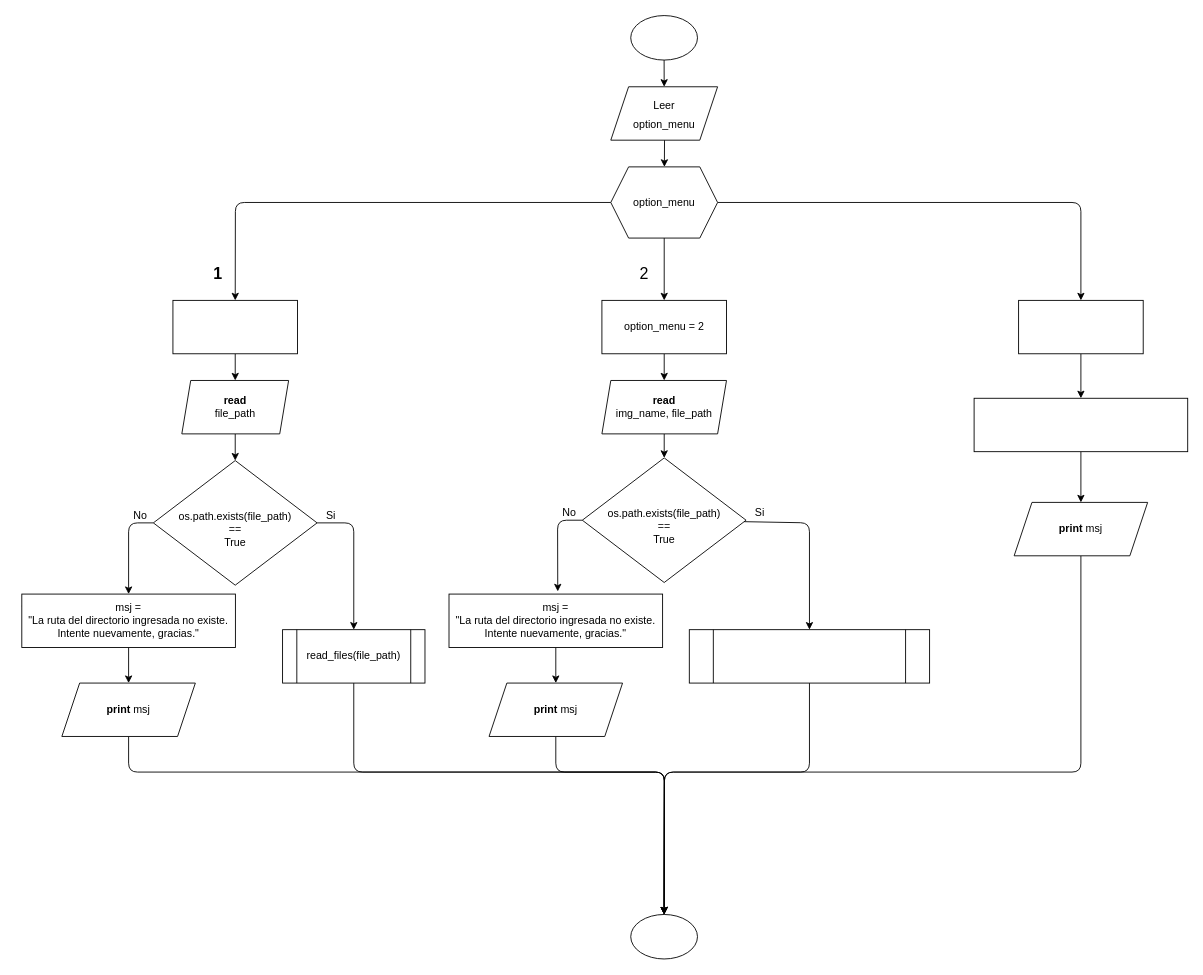
The diagram is 1203 pixels wide and 975 high, and some of its shapes have lost their labels. Here are the shapes that lost their labels. From the top down, the box of each, then its label:
(630, 15, 697, 60): Start
(172, 299, 298, 354): option_menu = 1
(1018, 299, 1143, 354): option_menu = 0
(973, 397, 1188, 452): msj = "Opción inválida"
(688, 629, 930, 683): add_watermark(img_name, file_path)
(630, 914, 697, 959): End
